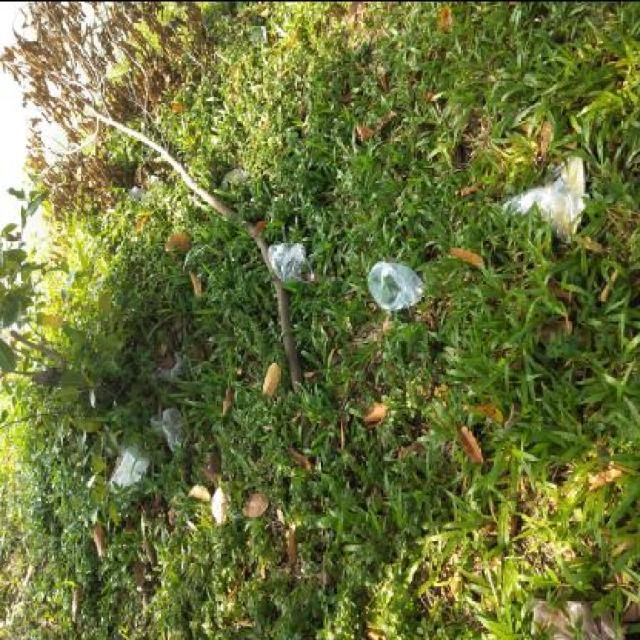plastic: (500, 149, 589, 242), (368, 260, 426, 309), (267, 240, 315, 283)
